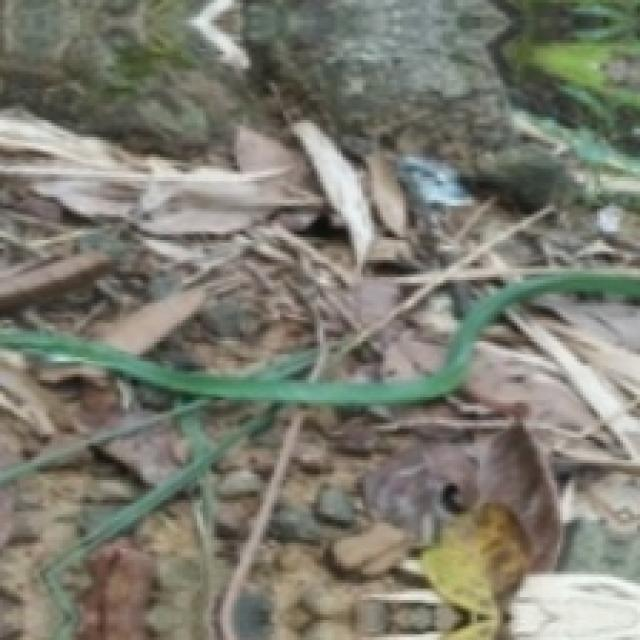red-tailed green ratsnake: (0, 271, 640, 407)
